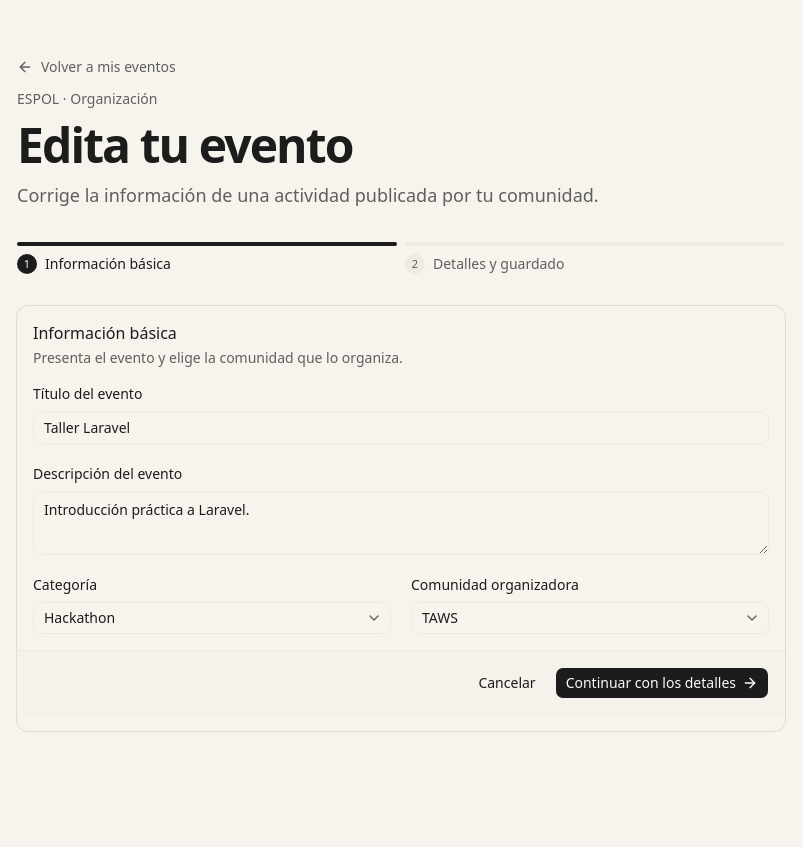
Test: edit event page › preloads the event and presents its time in the ESPOL timezone
The image size is (803, 847).
Expected: the heading "Edita tu evento" is shown, x1=17 y1=112 x2=352 y2=177
Expected: the field labelled "Título del evento" holds "Taller Laravel", x1=33 y1=412 x2=769 y2=444
Click the button "Continuar con los detalles". click: (662,683)
box: x1=555 y1=667 x2=769 y2=699
(page scrolled)
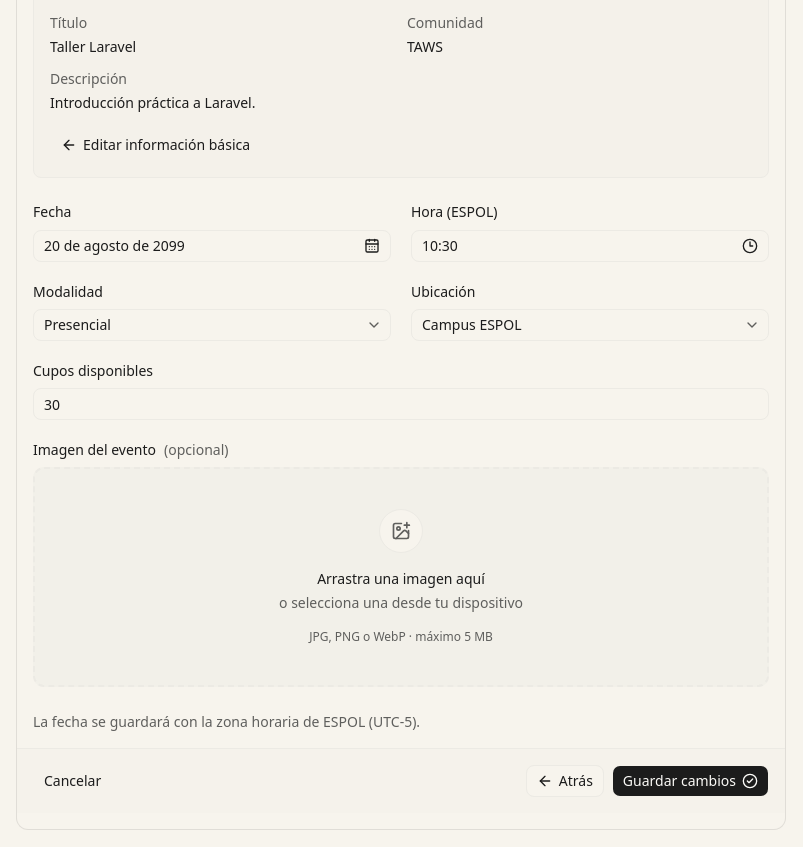
Expected: the button named "Fecha" reads "20 de agosto de 2099", x1=33 y1=230 x2=391 y2=262
Expected: the button named "Hora (ESPOL)" reads "10:30", x1=411 y1=230 x2=769 y2=262
Expected: the button with aria-label "Subir imagen del evento" is shown, x1=33 y1=467 x2=769 y2=687
